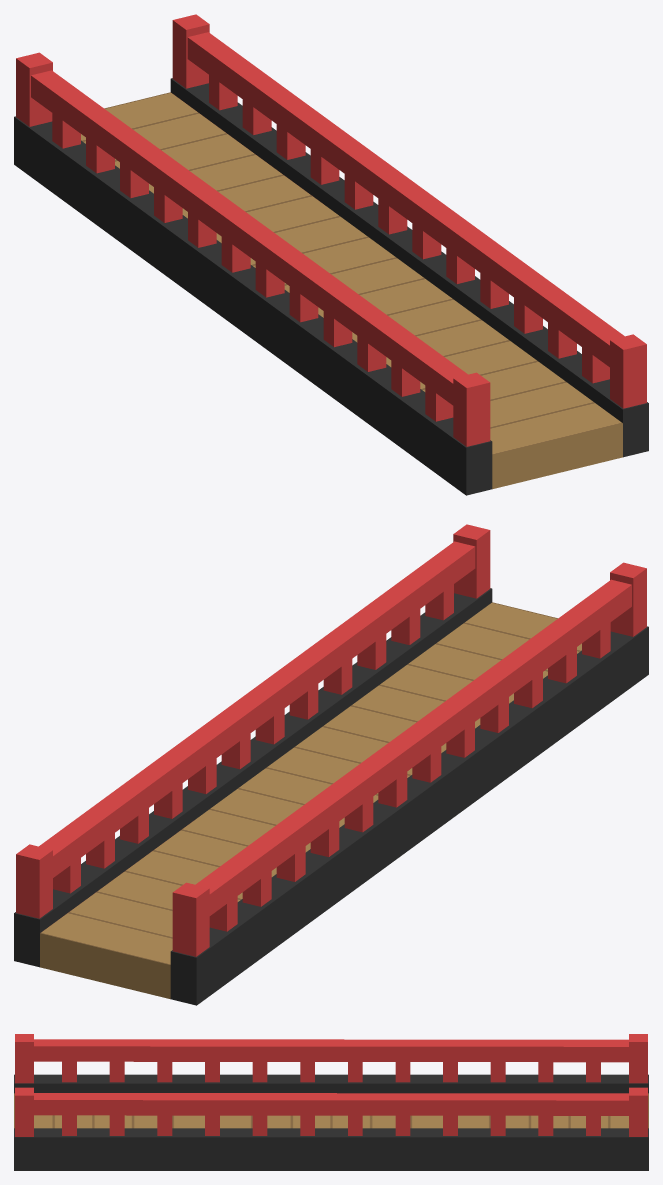
File: Bridge.gltf
The picture shows the model from 3 angles, top to bottom: view 1: azimuth 30°, elevation 25°; view 2: azimuth 150°, elevation 25°; view 3: azimuth 270°, elevation 25°; orthographic projection. The views are drawn at different scales.
Parts seen in each view (by area): view 1: Cube; view 2: Cube; view 3: Cube.
Part boxes in pixels (left/top/right/bottom): Cube: left=14, top=14, right=648, bottom=495; Cube: left=14, top=524, right=648, bottom=1005; Cube: left=14, top=1034, right=648, bottom=1170.
Size of the model in its own units: 2.8 by 1.56 by 12.
1 material, 1 textured.
